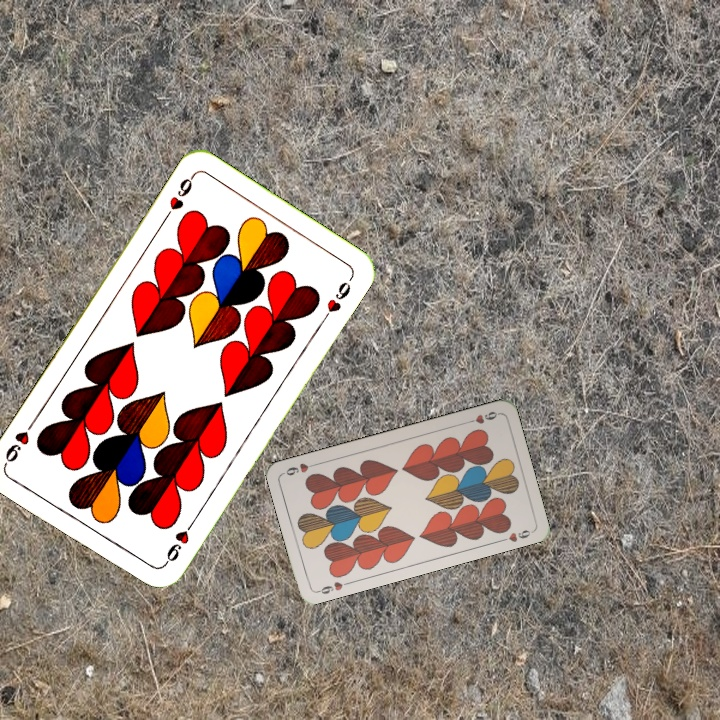H9: (159, 171, 198, 223), (160, 516, 198, 569), (462, 407, 502, 427), (313, 578, 353, 597)
